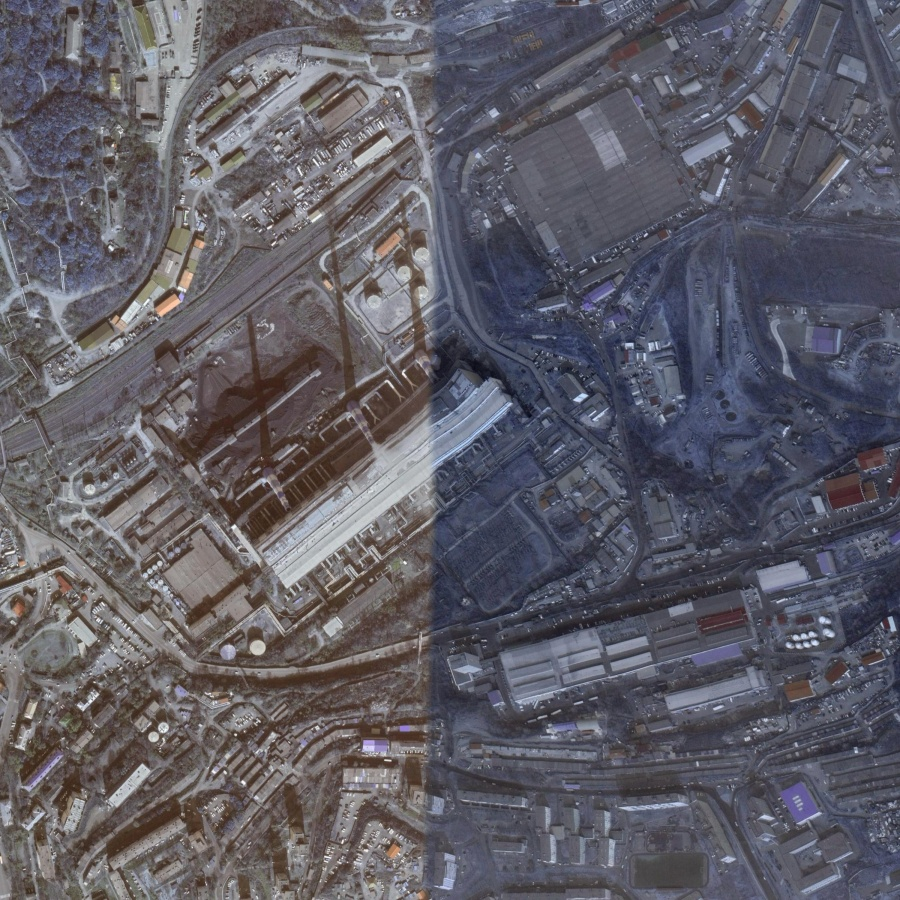PowerPlant: (181, 223, 508, 591)
